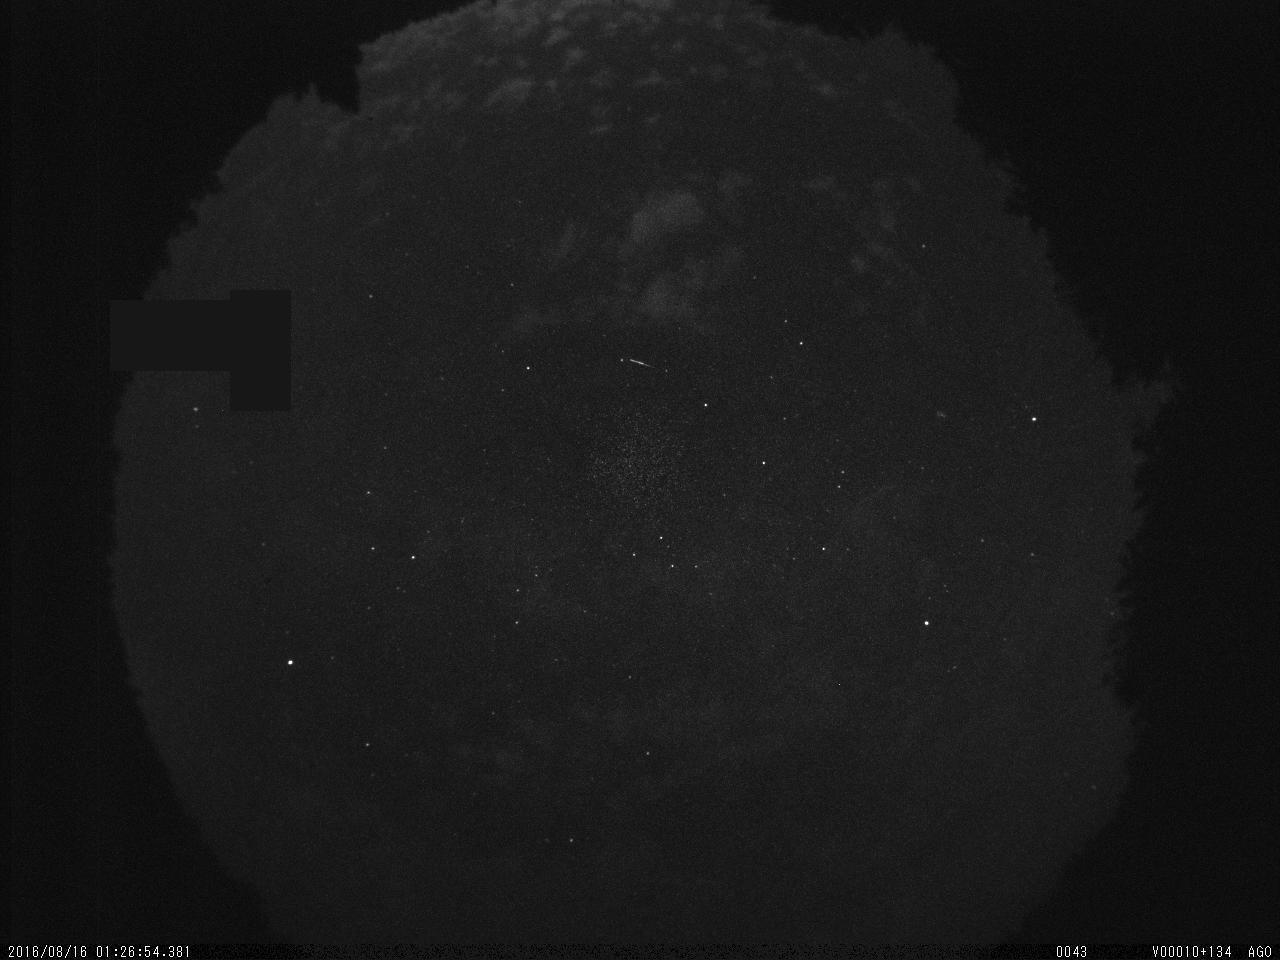meteor: (620, 342, 669, 386)
